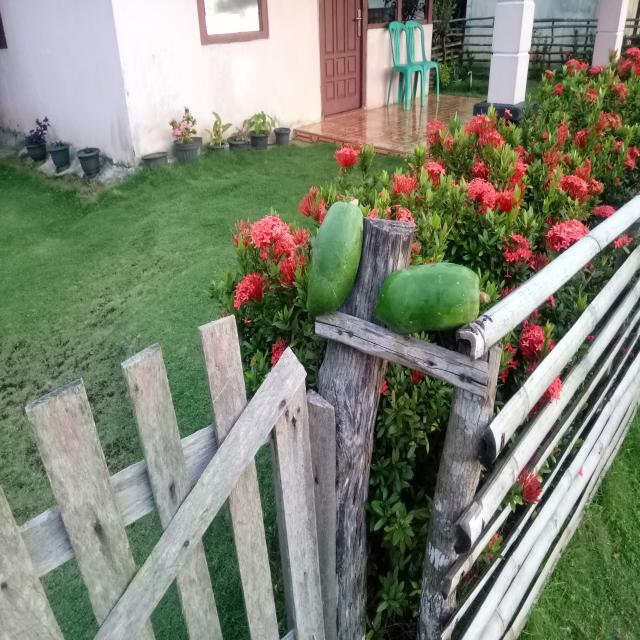Pepaya unrippen: (294, 185, 362, 327), (373, 265, 485, 341)
